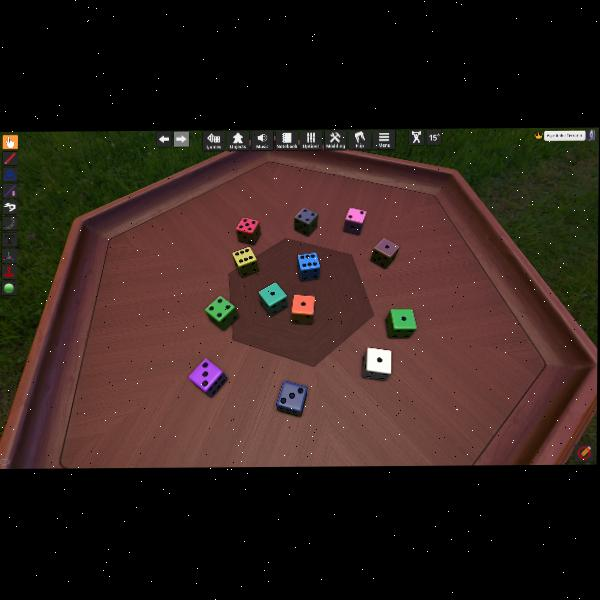d6: (189, 357, 225, 396), (276, 380, 308, 417), (205, 296, 236, 331), (258, 283, 288, 317), (363, 347, 392, 380), (370, 238, 398, 270), (386, 308, 415, 338), (232, 246, 258, 277), (296, 252, 320, 281), (294, 208, 318, 237), (235, 217, 259, 245), (292, 293, 315, 322), (343, 207, 365, 235)
